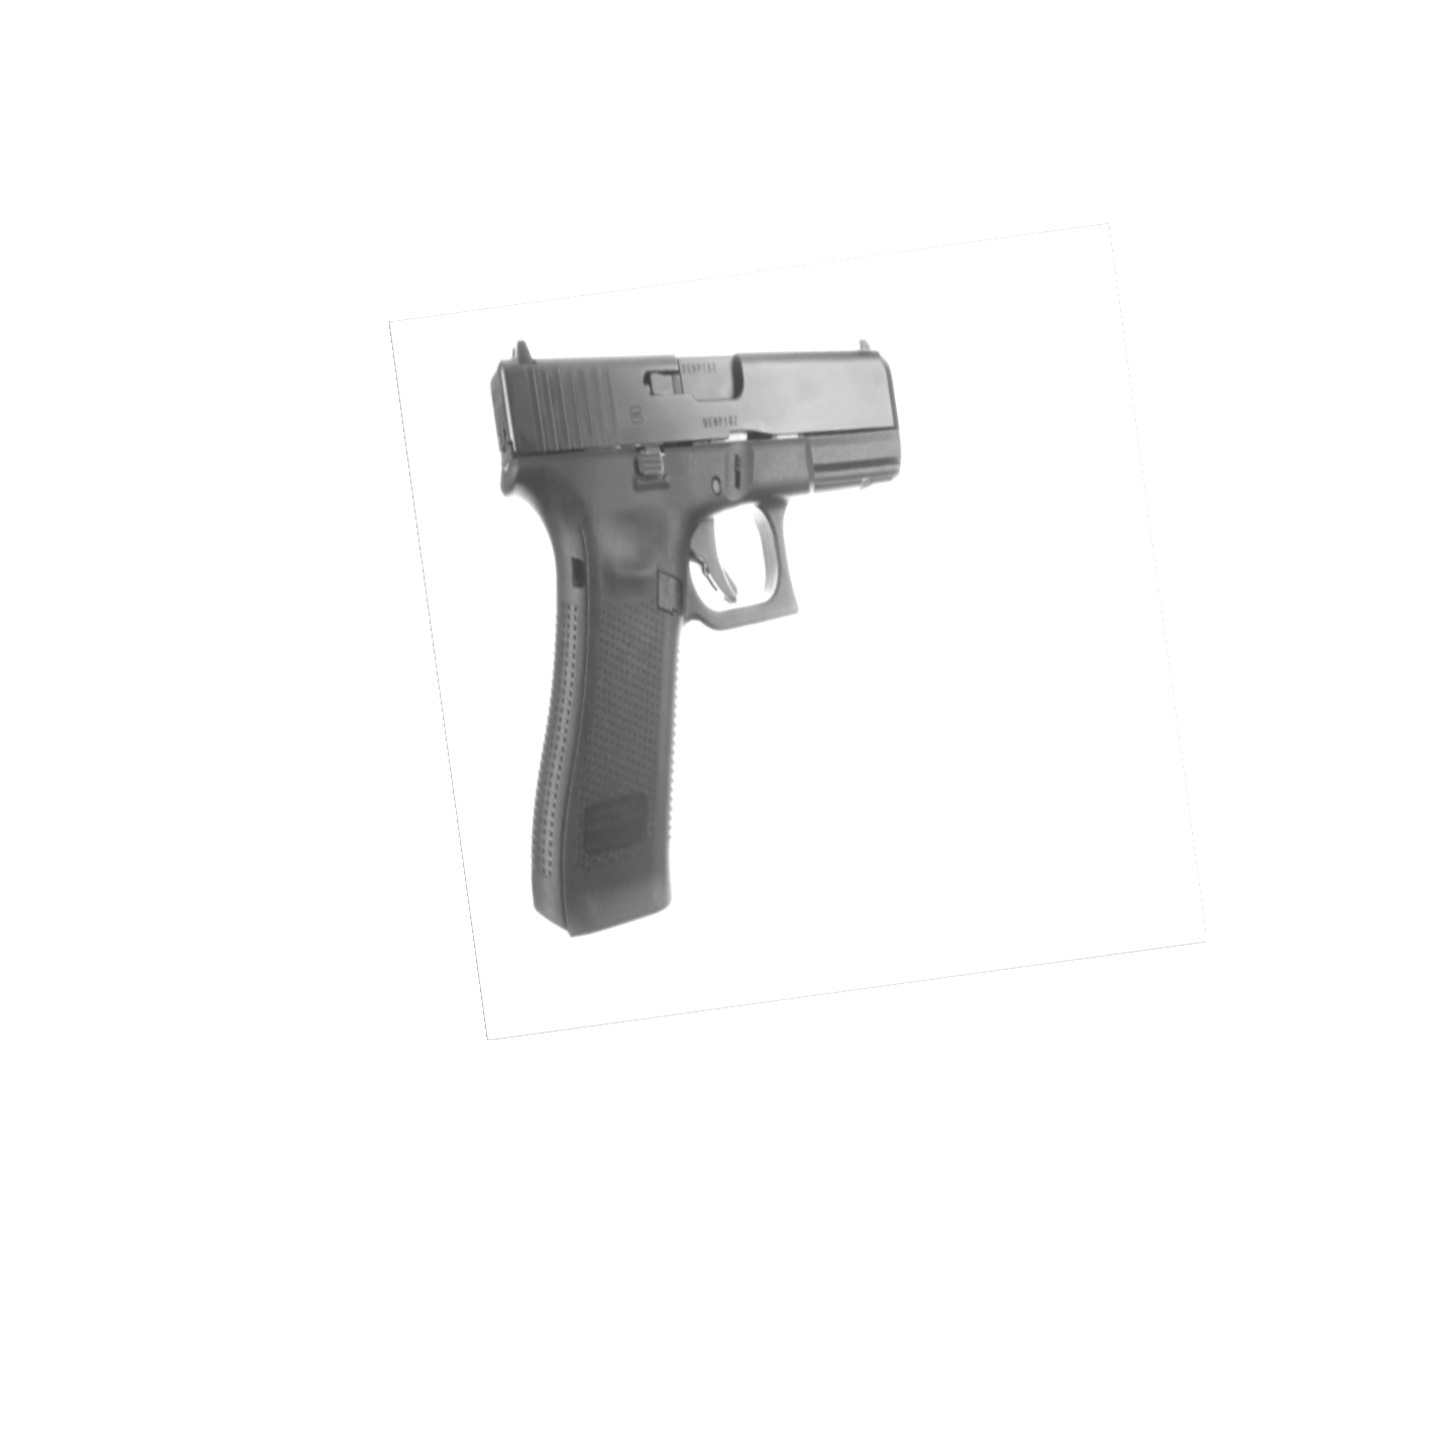gun: (481, 329, 915, 949)
